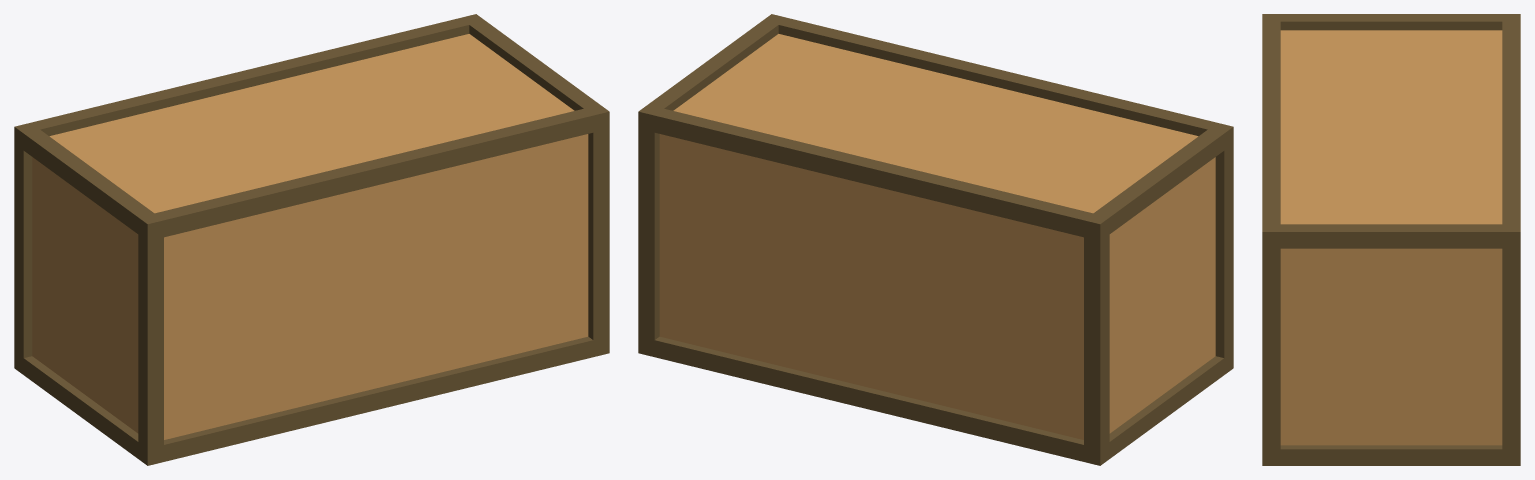
Rendered from Low_Poly_Crate_02.fbx.
3 views of the same model, side by side, from view 1: azimuth 30°, elevation 25°; view 2: azimuth 150°, elevation 25°; view 3: azimuth 270°, elevation 25° (orthographic). The views are drawn at different scales.
Visible parts, largest first — view 1: Low_Poly_Crate_02; view 2: Low_Poly_Crate_02; view 3: Low_Poly_Crate_02.
Part boxes in pixels (<box>): Low_Poly_Crate_02: <box>14,14,609,465</box>; Low_Poly_Crate_02: <box>638,14,1233,465</box>; Low_Poly_Crate_02: <box>1262,14,1520,465</box>.
Bounding box in the file's own units: 200 × 100 × 100.
